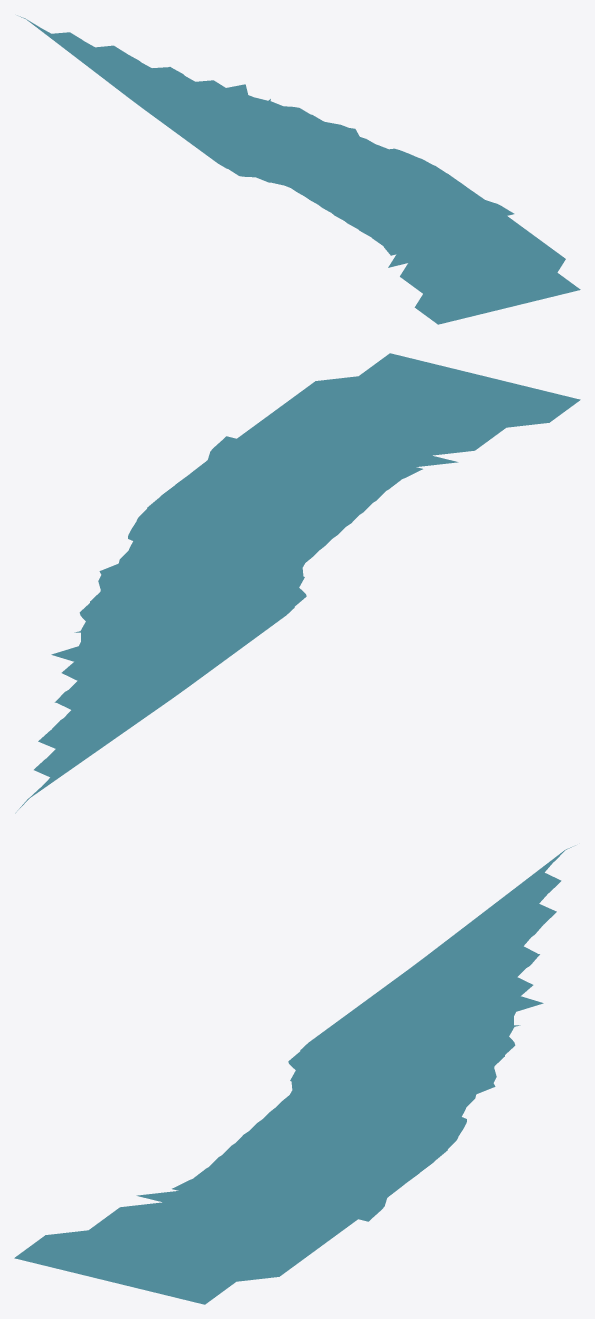
3 renders of one model, top to bottom at view 1: azimuth 30°, elevation 25°; view 2: azimuth 150°, elevation 25°; view 3: azimuth 330°, elevation 25°, orthographic. The views are drawn at different scales.
Parts seen in each view (by area): view 1: prototype; view 2: prototype; view 3: prototype.
Boxes of the visible parts, x1,y1,x2,y2 form: prototype: [17, 15, 580, 324]; prototype: [15, 353, 580, 813]; prototype: [14, 845, 575, 1304].
Bounding box in the file's own units: 16.76 × 0.3467 × 72.
